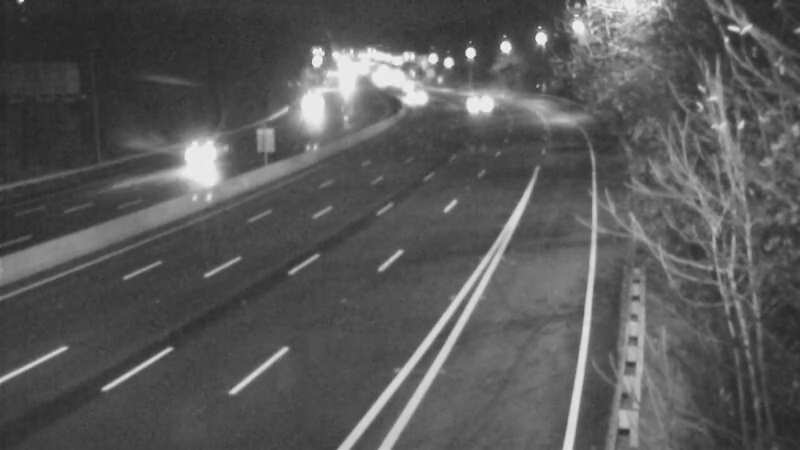vehicle: (168, 112, 248, 192), (388, 71, 438, 121), (447, 78, 497, 128), (285, 84, 335, 134)
